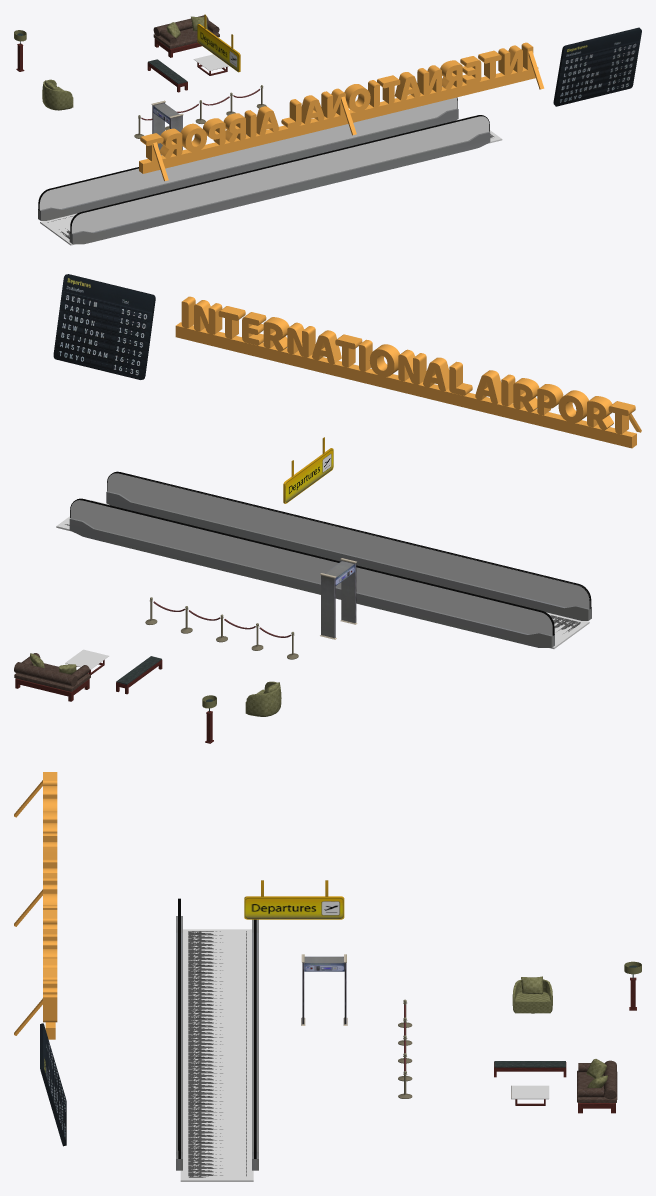
Rendered from INTERAL PROPS.fbx.
The picture shows the model from 3 angles, top to bottom: view 1: azimuth 30°, elevation 25°; view 2: azimuth 150°, elevation 25°; view 3: azimuth 270°, elevation 25°; orthographic projection. The views are drawn at different scales.
Parts seen in each view (by area): view 1: Parking_1__4_.010, Parking_1.001, Paking_Light__2_.001, Parking_1__4_.007, Parking_1__4_.002, Parking_1__4_.009, Parking_1__4_.003, Parking_1__4_.001, Parking_1__4_.005, Parking_1__4_.006; view 2: Parking_1__4_.010, Parking_1.001, Paking_Light__2_.001, Parking_1__4_.007, Parking_1__4_.009, Parking_1__4_.002, Parking_1__4_.003, Parking_1__4_.001, Parking_1__4_.005; view 3: Parking_1__4_.010, Parking_1.001, Parking_1__4_.002, Parking_1__4_.007, Paking_Light__2_.001, Parking_1__4_.003, Parking_1__4_.009, Parking_1__4_.005, Parking_1__4_.006, Parking_1__4_.001.
Part boxes in pixels (left/top/right/bottom): Parking_1__4_.010: left=38, top=97, right=502, bottom=245; Parking_1.001: left=139, top=42, right=544, bottom=181; Paking_Light__2_.001: left=553, top=27, right=641, bottom=106; Parking_1__4_.007: left=153, top=15, right=219, bottom=57; Parking_1__4_.002: left=197, top=14, right=240, bottom=72; Parking_1__4_.009: left=151, top=100, right=183, bottom=155; Parking_1__4_.003: left=42, top=79, right=73, bottom=110; Parking_1__4_.001: left=134, top=85, right=266, bottom=138; Parking_1__4_.005: left=147, top=59, right=187, bottom=92; Parking_1__4_.006: left=193, top=54, right=229, bottom=75; Parking_1__4_.010: left=56, top=471, right=591, bottom=648; Parking_1.001: left=175, top=296, right=641, bottom=448; Paking_Light__2_.001: left=53, top=274, right=155, bottom=379; Parking_1__4_.007: left=14, top=653, right=90, bottom=701; Parking_1__4_.009: left=320, top=558, right=357, bottom=639; Parking_1__4_.002: left=283, top=437, right=333, bottom=503; Parking_1__4_.003: left=245, top=681, right=281, bottom=716; Parking_1__4_.001: left=145, top=597, right=298, bottom=659; Parking_1__4_.005: left=116, top=656, right=162, bottom=694; Parking_1__4_.010: left=176, top=898, right=258, bottom=1181; Parking_1.001: left=14, top=772, right=57, bottom=1039; Parking_1__4_.002: left=244, top=880, right=344, bottom=919; Parking_1__4_.007: left=577, top=1059, right=617, bottom=1113; Paking_Light__2_.001: left=40, top=1023, right=66, bottom=1146; Parking_1__4_.003: left=512, top=976, right=552, bottom=1013; Parking_1__4_.009: left=301, top=954, right=347, bottom=1025; Parking_1__4_.005: left=494, top=1061, right=566, bottom=1077; Parking_1__4_.006: left=511, top=1085, right=549, bottom=1105; Parking_1__4_.001: left=398, top=999, right=412, bottom=1098.
Bounding box in the file's own units: 2056 × 553 × 1828.
